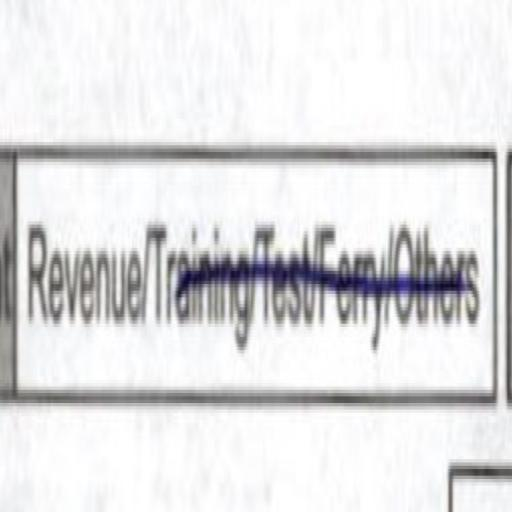check: (23, 129, 147, 412)
